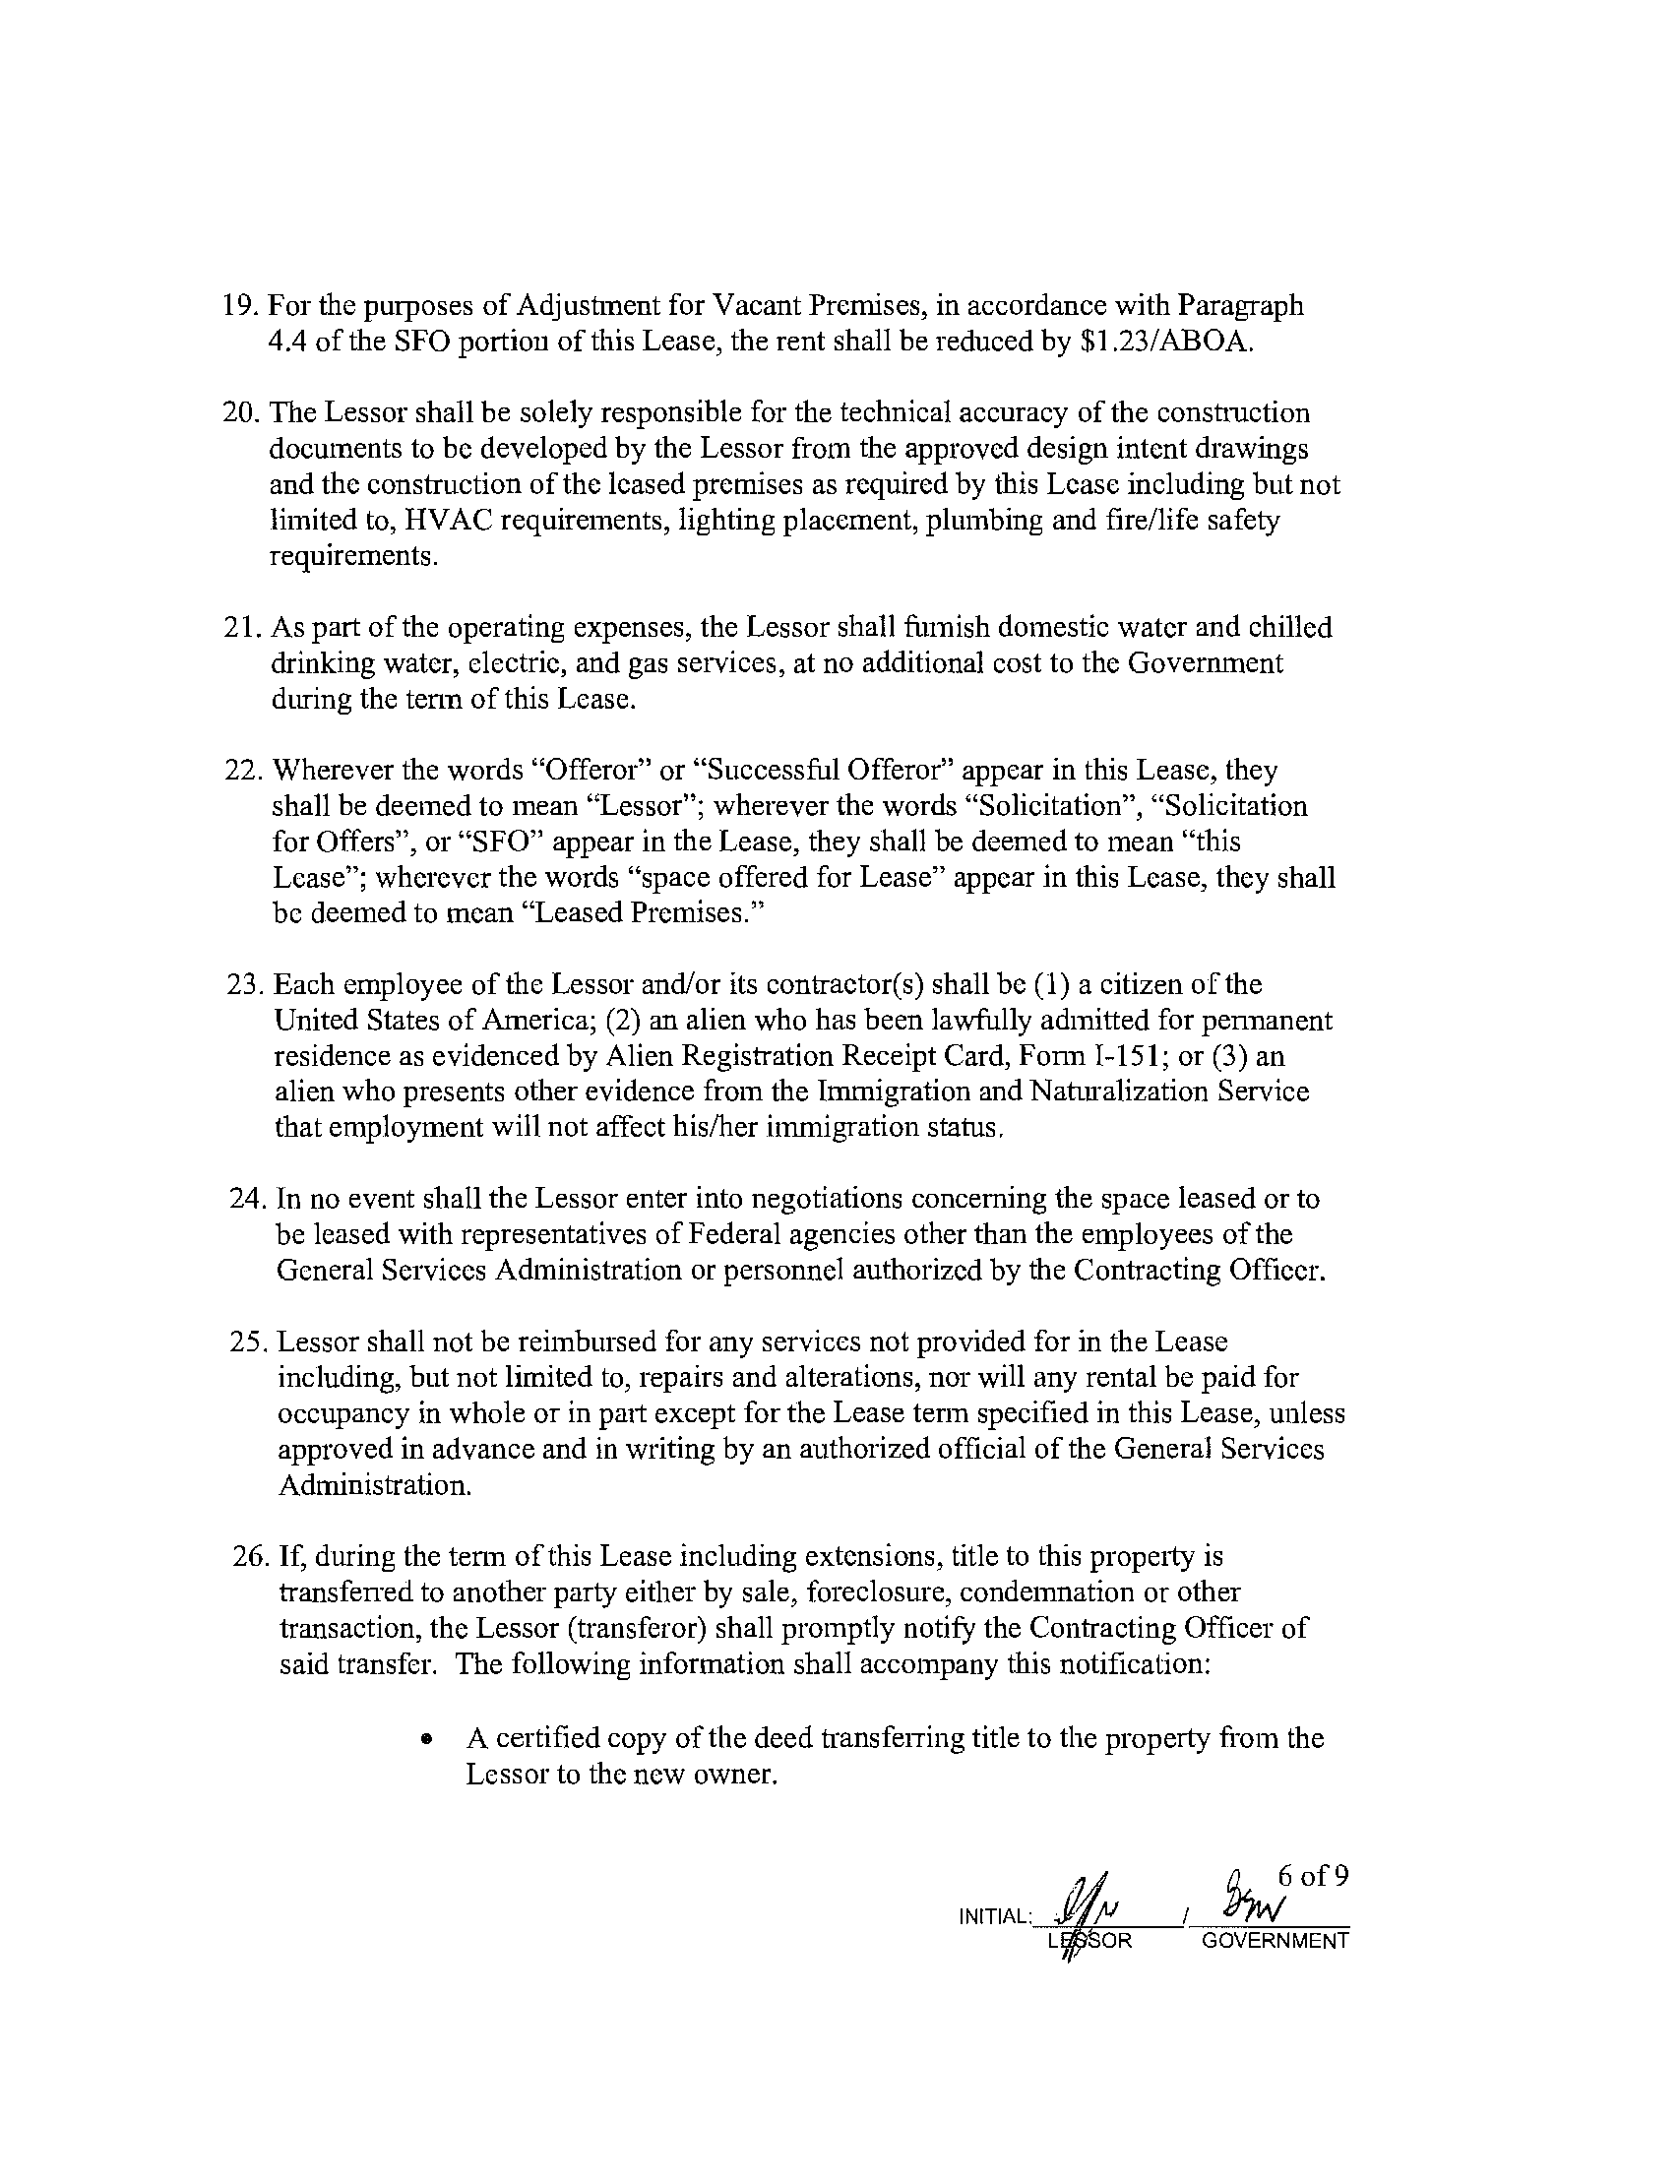handwritten: (1052, 1851, 1121, 1953), (1205, 1863, 1286, 1930)
